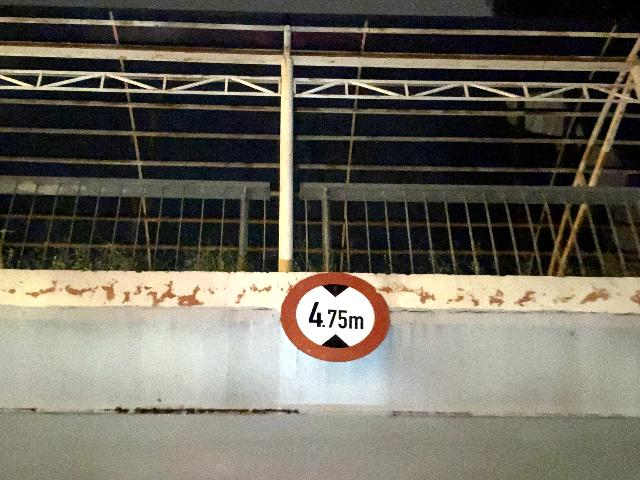han-che-chieu-cao: (280, 271, 391, 363)
